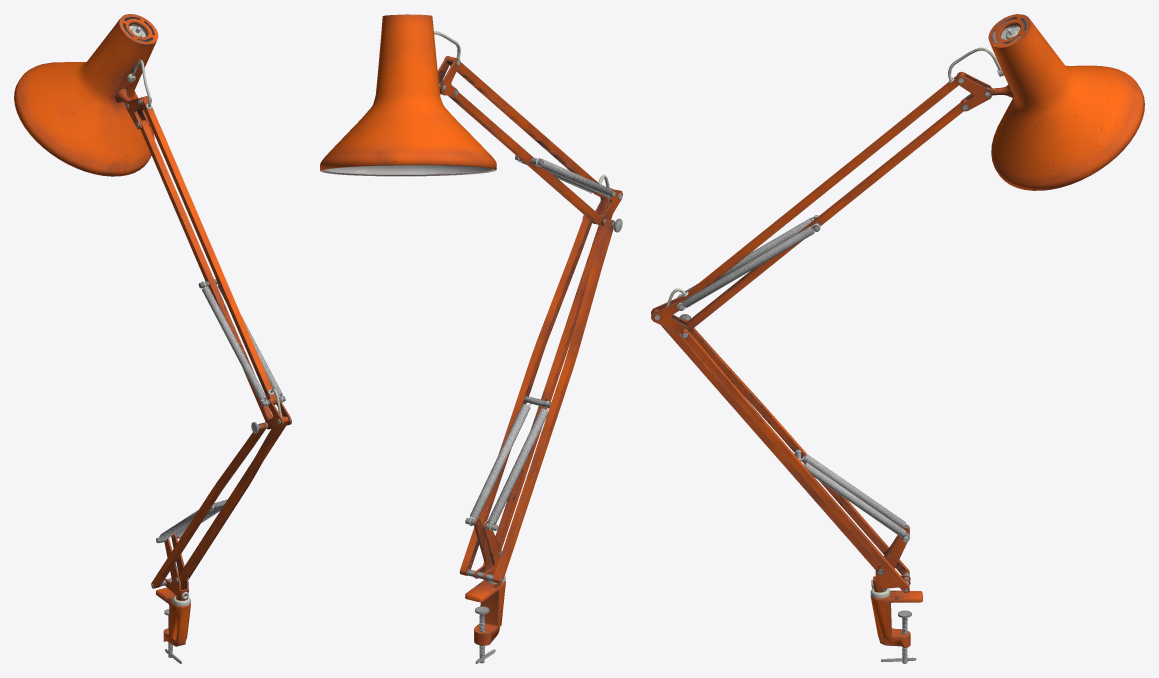
Rendered from desk_lamp_arm_01.glb.
The picture shows the model from 3 angles, left to right: view 1: azimuth 30°, elevation 25°; view 2: azimuth 150°, elevation 25°; view 3: azimuth 270°, elevation 25°; orthographic projection. The views are drawn at different scales.
Parts seen in each view (by area): view 1: desk_lamp_arm_01; view 2: desk_lamp_arm_01; view 3: desk_lamp_arm_01.
Boxes of the visible parts, bbox=[...] form: desk_lamp_arm_01: bbox=[14, 14, 291, 663]; desk_lamp_arm_01: bbox=[320, 14, 622, 663]; desk_lamp_arm_01: bbox=[651, 14, 1144, 663].
Bounding box in the file's own units: 0.2018 × 0.8926 × 0.6139.
Materials: 2 (2 with a texture image).
